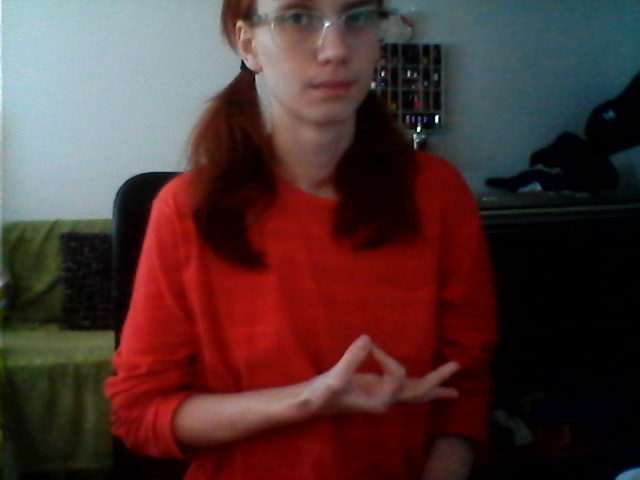co: (299, 323, 472, 435)
